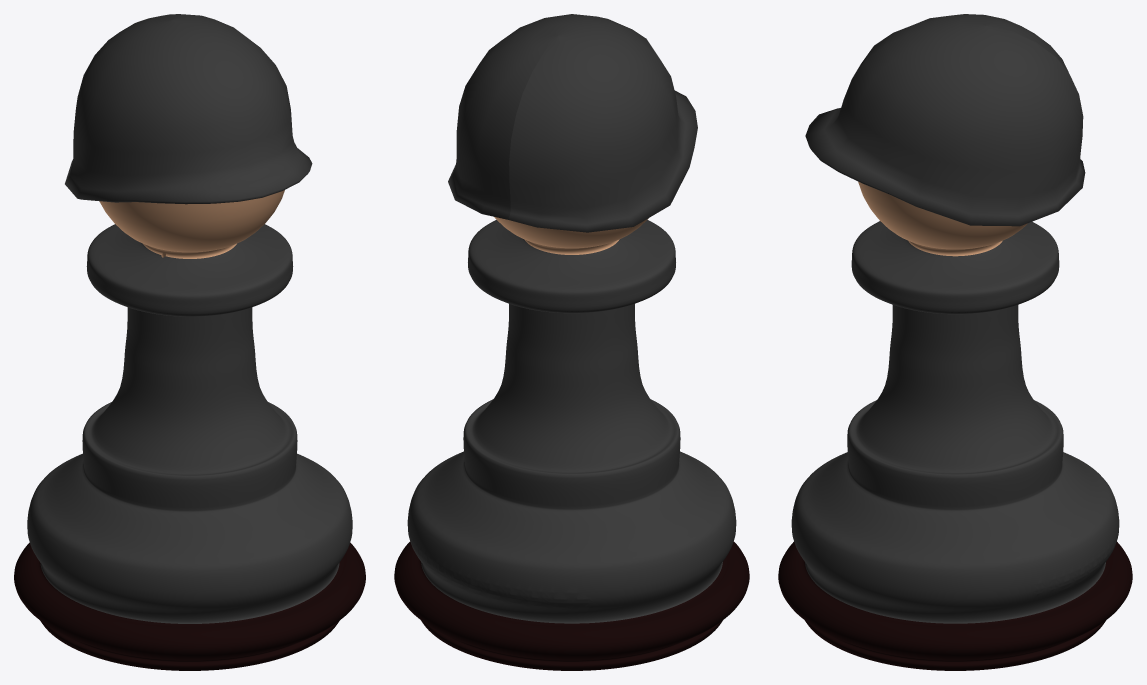
Rendered from Peão Preto.FBX.
3 views of the same model, side by side, from view 1: azimuth 30°, elevation 25°; view 2: azimuth 150°, elevation 25°; view 3: azimuth 270°, elevation 25° (orthographic).
Parts seen in each view (by area): view 1: revolvedSurface17, helmet001; view 2: revolvedSurface17, helmet001; view 3: revolvedSurface17, helmet001.
Boxes of the visible parts, x1,y1,x2,y2 form: revolvedSurface17: [14, 190, 365, 670]; helmet001: [65, 14, 312, 204]; revolvedSurface17: [394, 217, 749, 670]; helmet001: [448, 14, 697, 232]; revolvedSurface17: [778, 181, 1132, 670]; helmet001: [805, 14, 1085, 226].
Size of the model in its own units: 39.27 by 71.34 by 39.27.
